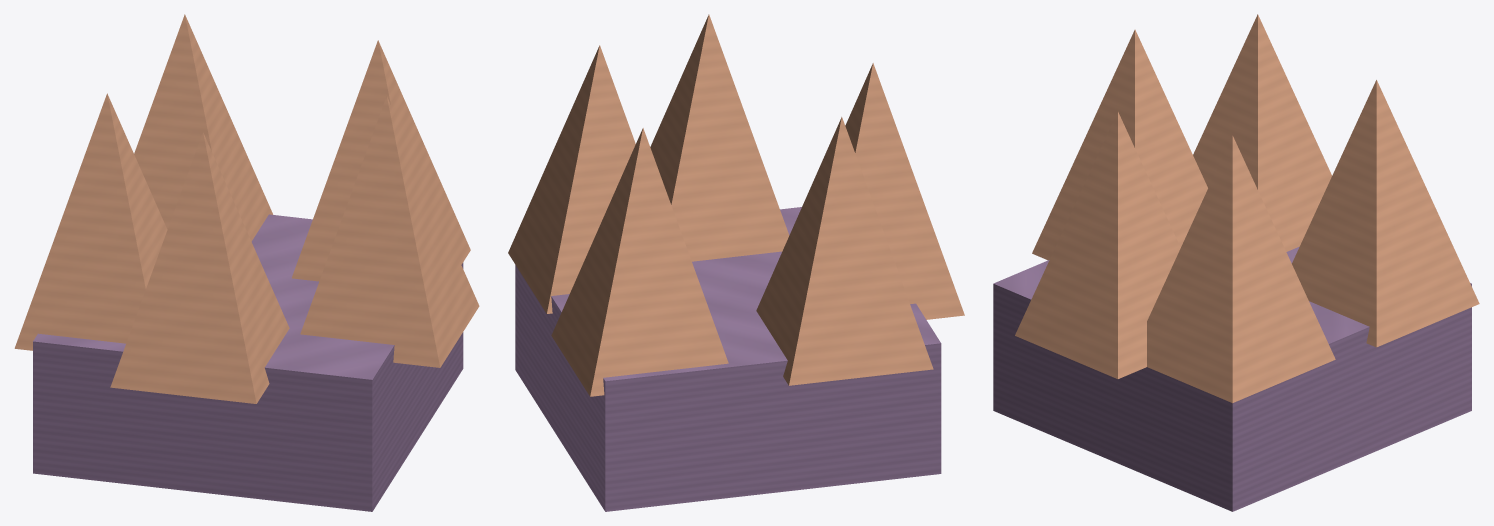
File: atlas100-s081-a12.glb
3 views of the same model, side by side, from view 1: azimuth 30°, elevation 25°; view 2: azimuth 150°, elevation 25°; view 3: azimuth 270°, elevation 25° (orthographic). The views are drawn at different scales.
Parts seen in each view (by area): view 1: atlas100-s081-a12:part-000, atlas100-s081-a12:part-002, atlas100-s081-a12:part-004, atlas100-s081-a12:part-005, atlas100-s081-a12:part-003, atlas100-s081-a12:part-001; view 2: atlas100-s081-a12:part-000, atlas100-s081-a12:part-005, atlas100-s081-a12:part-003, atlas100-s081-a12:part-004, atlas100-s081-a12:part-001, atlas100-s081-a12:part-002; view 3: atlas100-s081-a12:part-000, atlas100-s081-a12:part-001, atlas100-s081-a12:part-003, atlas100-s081-a12:part-004, atlas100-s081-a12:part-005, atlas100-s081-a12:part-002.
Part boxes in pixels (x1=…): atlas100-s081-a12:part-000: x1=33, y1=214, x2=463, y2=511; atlas100-s081-a12:part-002: x1=110, y1=132, x2=289, y2=403; atlas100-s081-a12:part-004: x1=300, y1=96, x2=479, y2=367; atlas100-s081-a12:part-005: x1=14, y1=93, x2=167, y2=350; atlas100-s081-a12:part-003: x1=134, y1=14, x2=273, y2=241; atlas100-s081-a12:part-001: x1=292, y1=40, x2=470, y2=281; atlas100-s081-a12:part-000: x1=515, y1=207, x2=941, y2=511; atlas100-s081-a12:part-005: x1=756, y1=117, x2=933, y2=385; atlas100-s081-a12:part-003: x1=551, y1=128, x2=728, y2=396; atlas100-s081-a12:part-004: x1=650, y1=14, x2=789, y2=261; atlas100-s081-a12:part-001: x1=508, y1=45, x2=635, y2=313; atlas100-s081-a12:part-002: x1=845, y1=63, x2=964, y2=319; atlas100-s081-a12:part-000: x1=993, y1=246, x2=1471, y2=511; atlas100-s081-a12:part-001: x1=1147, y1=135, x2=1335, y2=403; atlas100-s081-a12:part-003: x1=1292, y1=80, x2=1479, y2=347; atlas100-s081-a12:part-004: x1=1015, y1=112, x2=1180, y2=378; atlas100-s081-a12:part-005: x1=1193, y1=14, x2=1331, y2=251; atlas100-s081-a12:part-002: x1=1032, y1=29, x2=1207, y2=260.
Size of the model in its own units: 1.19 by 0.9 by 1.18.
2 materials, 2 textured.
